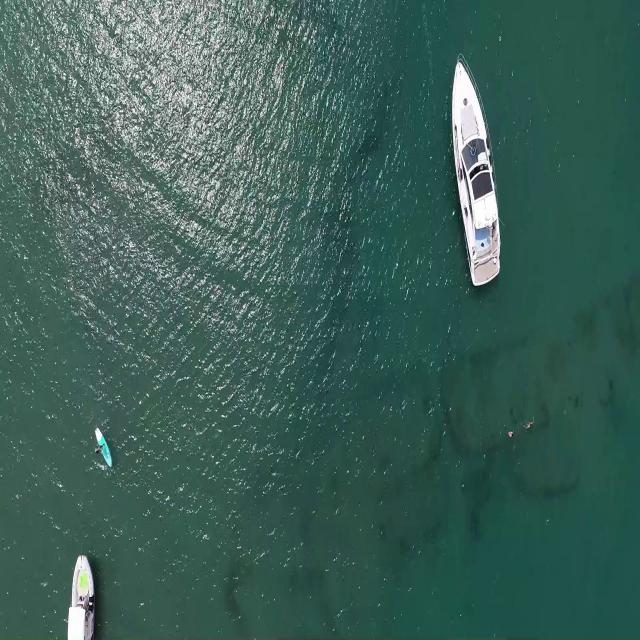boat: (449, 52, 504, 290), (66, 552, 98, 632)
person: (523, 416, 536, 431), (93, 441, 105, 456), (508, 428, 516, 438)
surfboard: (96, 424, 111, 475)
